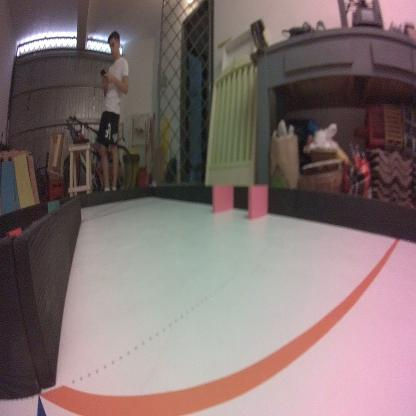magenta: (247, 184, 268, 219), (213, 186, 233, 212)
